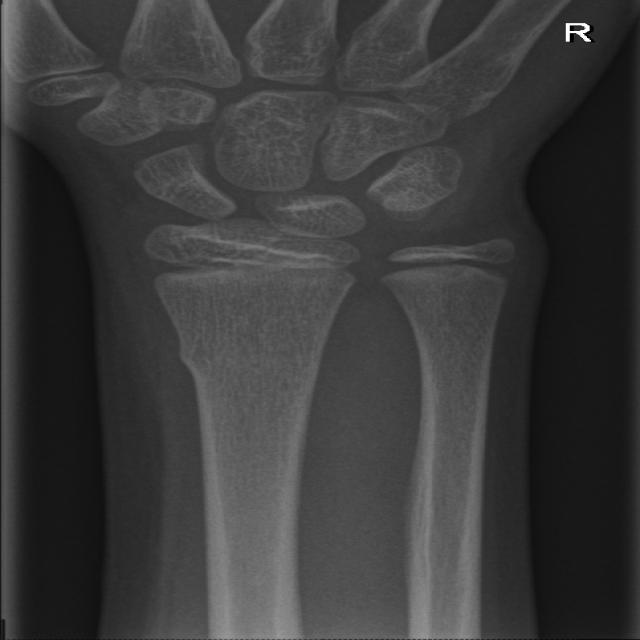radius fracture: (150, 313, 353, 460)
